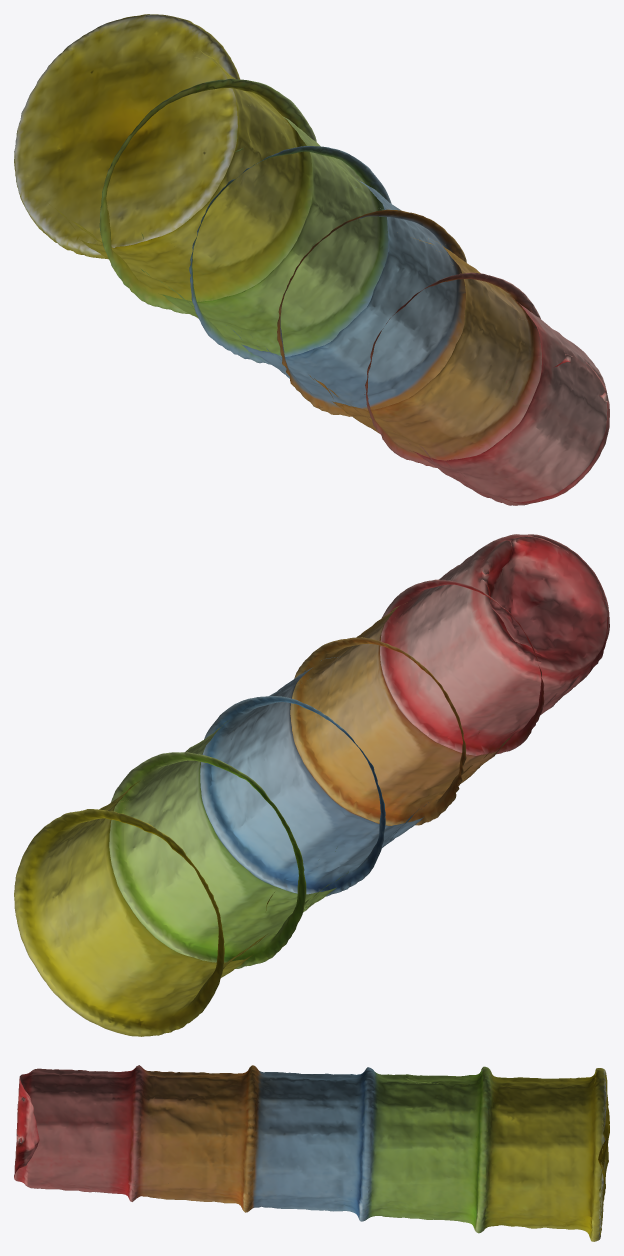
The model's file is stucking_cups.glb.
3 views of the same model, one above another, from view 1: azimuth 30°, elevation 25°; view 2: azimuth 150°, elevation 25°; view 3: azimuth 270°, elevation 25° (orthographic). The views are drawn at different scales.
Size of the model in its own units: 0.2945 by 0.2912 by 1.
